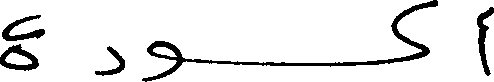أ: (475, 4, 492, 76)
ة: (0, 13, 41, 71)
د: (94, 44, 124, 76)
ك: (390, 0, 430, 64)
و: (145, 38, 182, 79)
